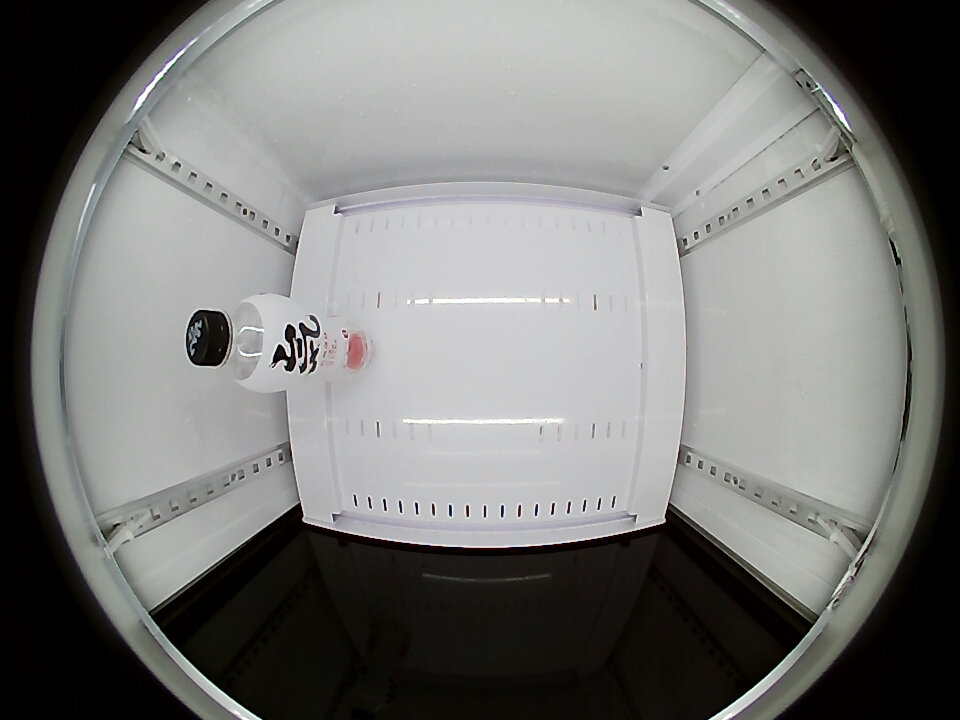yuanqishui: (186, 293, 293, 391)
